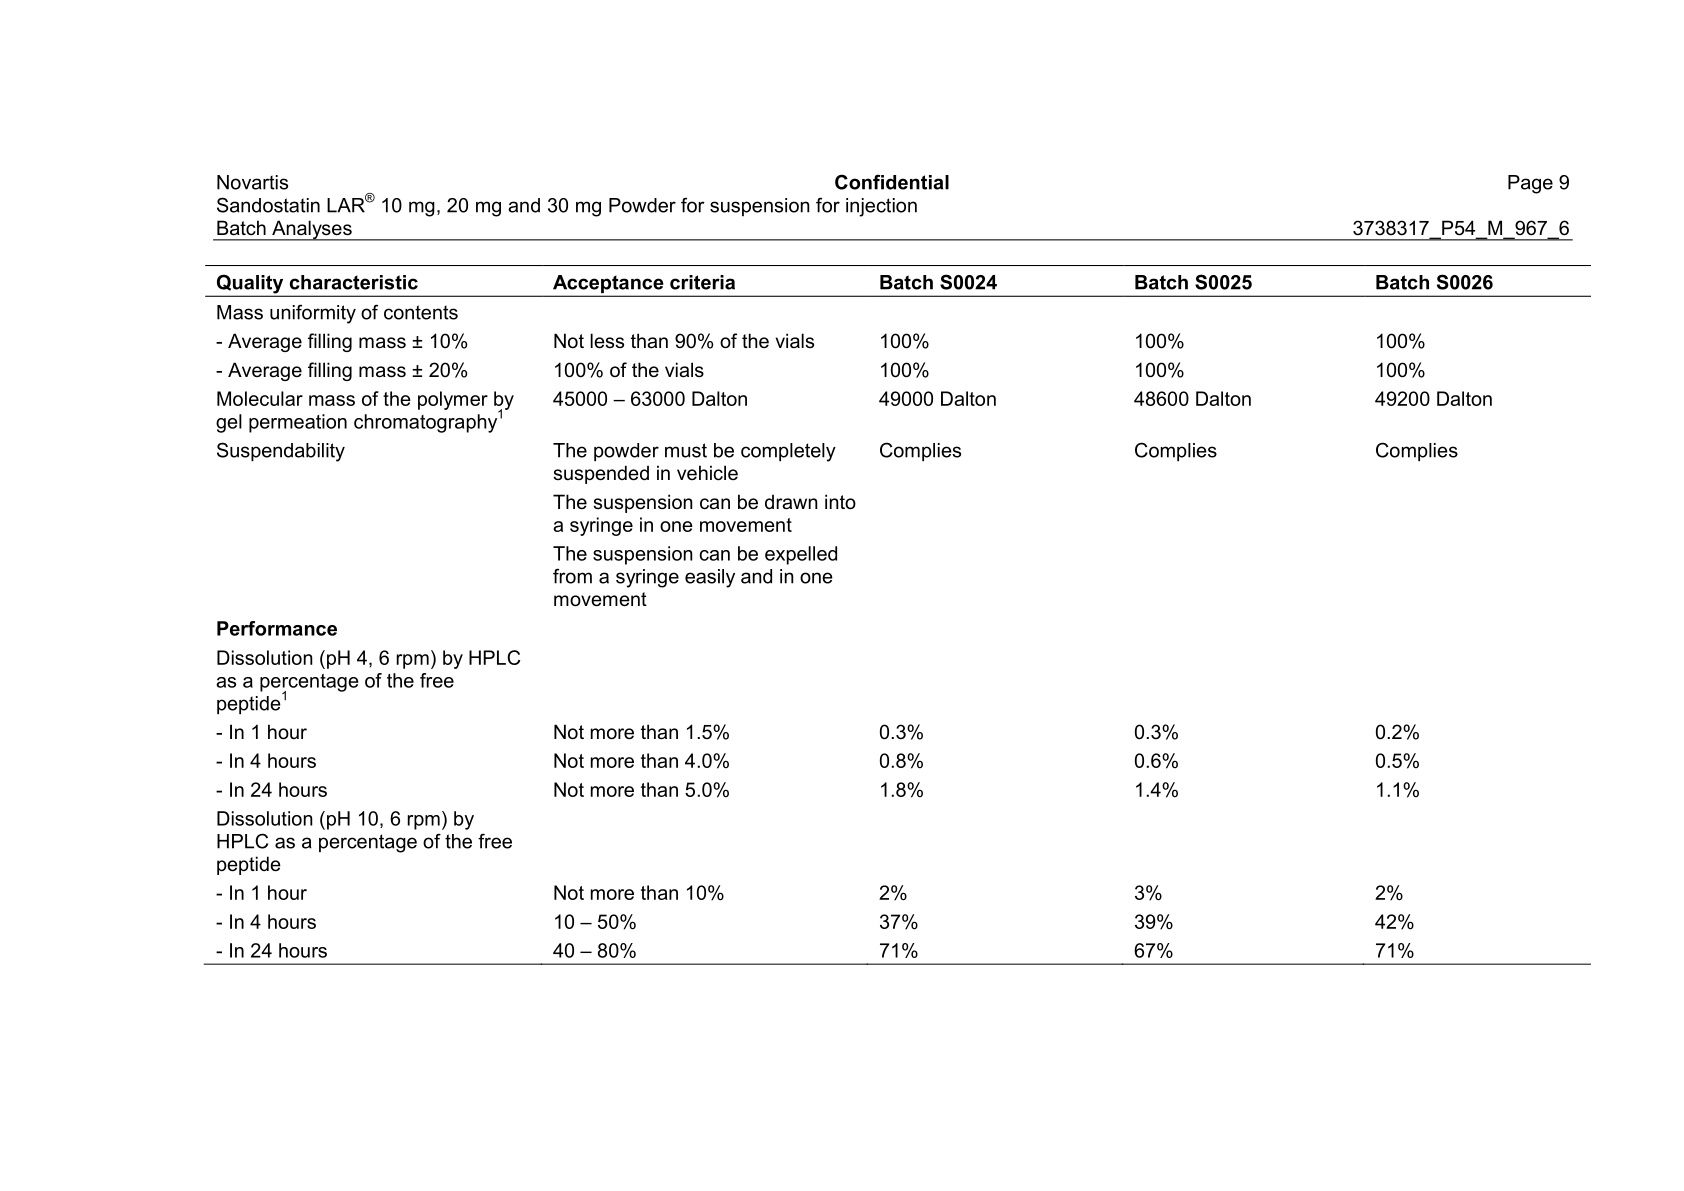partial_lined: (204, 263, 1591, 965)
